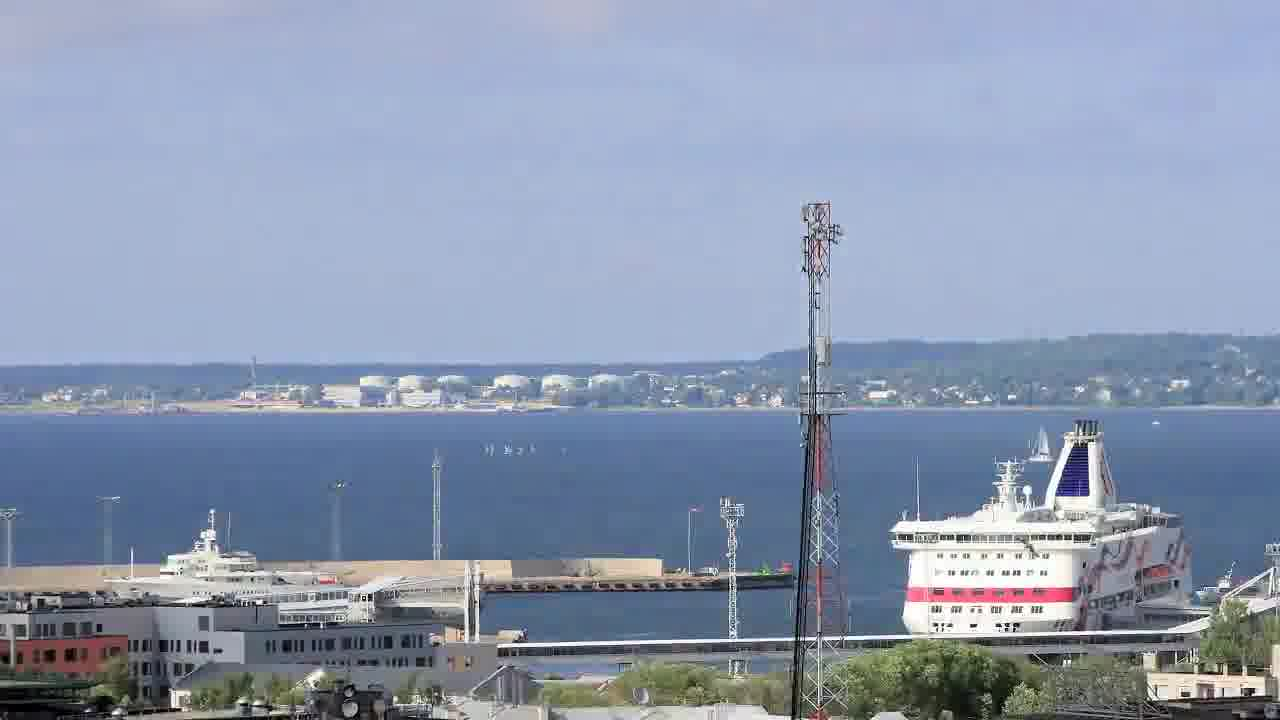type-2: (1015, 422, 1065, 466)
type-3: (868, 415, 1225, 638), (84, 537, 359, 610)
